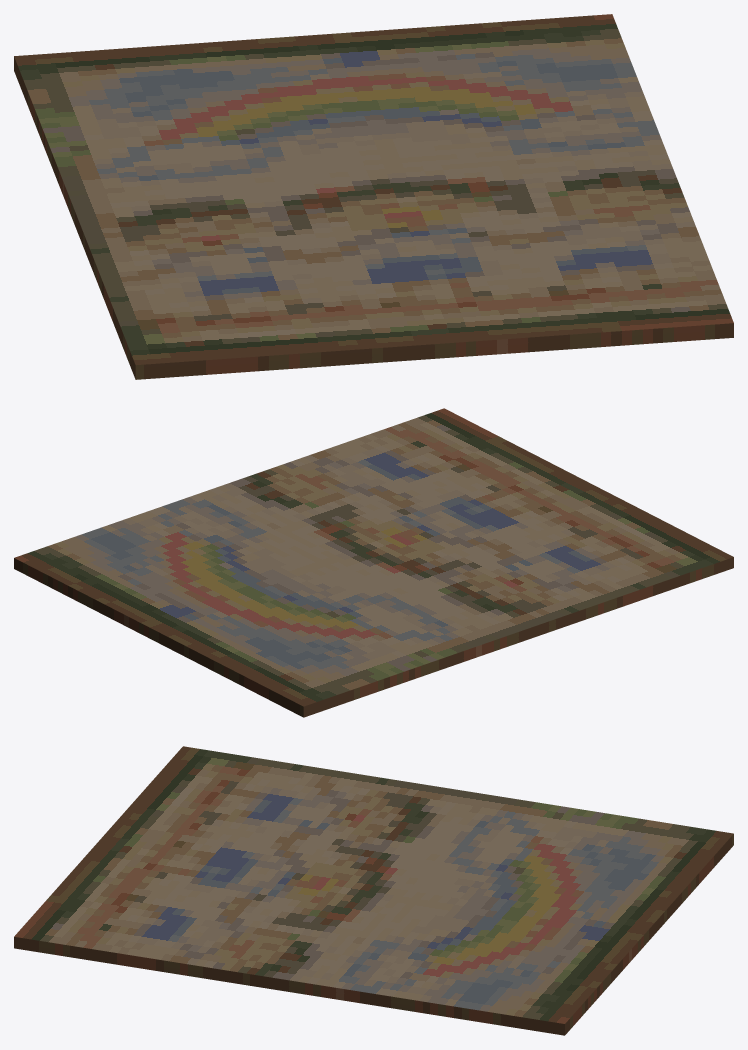
Rendered from prop_drawing_fallen-1.glb.
3 renders of one model, top to bottom at view 1: azimuth 30°, elevation 25°; view 2: azimuth 150°, elevation 25°; view 3: azimuth 270°, elevation 25°, orthographic. The views are drawn at different scales.
Visible parts, largest first — view 1: prop_drawing_fallen-1; view 2: prop_drawing_fallen-1; view 3: prop_drawing_fallen-1.
Boxes of the visible parts, x1,y1,x2,y2 form: prop_drawing_fallen-1: (14, 14, 733, 379); prop_drawing_fallen-1: (14, 408, 733, 717); prop_drawing_fallen-1: (14, 746, 733, 1035).
Size of the model in its own units: 0.6145 by 0.012 by 0.673.
Materials: 1 (1 with a texture image).
